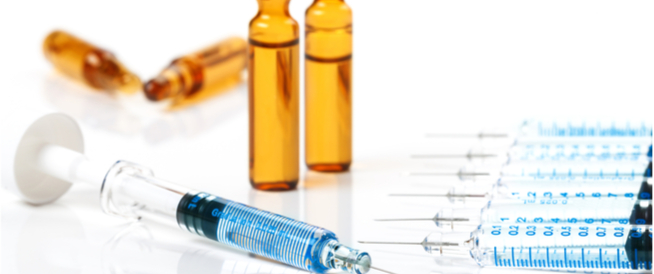Medicine: (248, 0, 298, 202), (308, 0, 357, 180), (135, 32, 251, 100), (38, 28, 143, 93)
